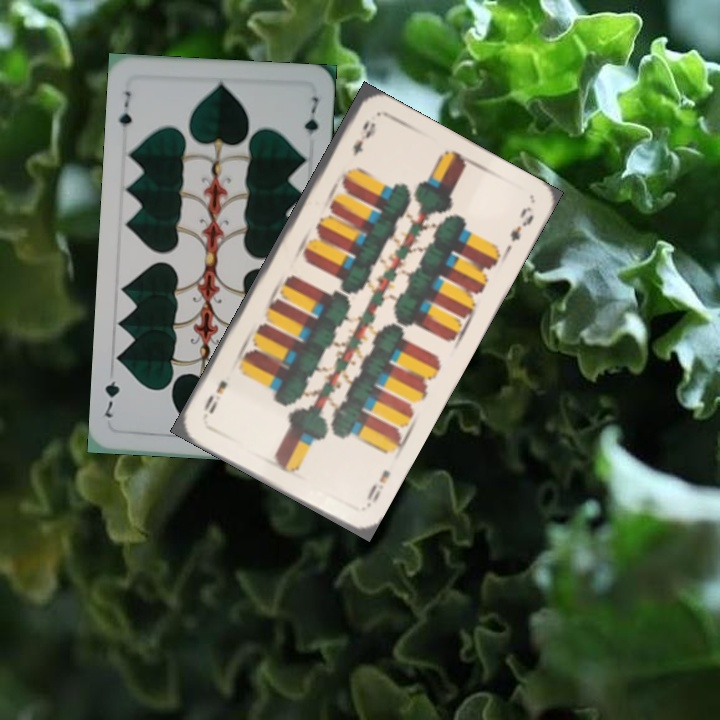E9: (359, 465, 393, 510), (348, 116, 379, 160)
G7: (115, 87, 134, 138)
